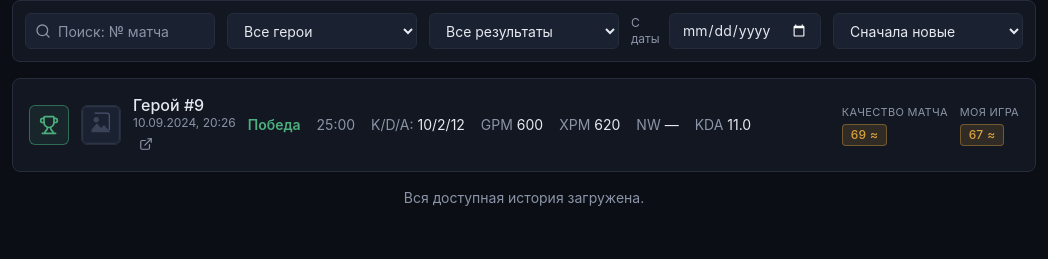
Scenario: Состояния списка матчей › фильтр «только поражения» скрывает победы
The width and height of the screenshot is (1048, 259).
Select "Только поражения" in the 2nd dropdown named "Результат" at [524, 31], box x1=429 y1=13 x2=619 y2=49
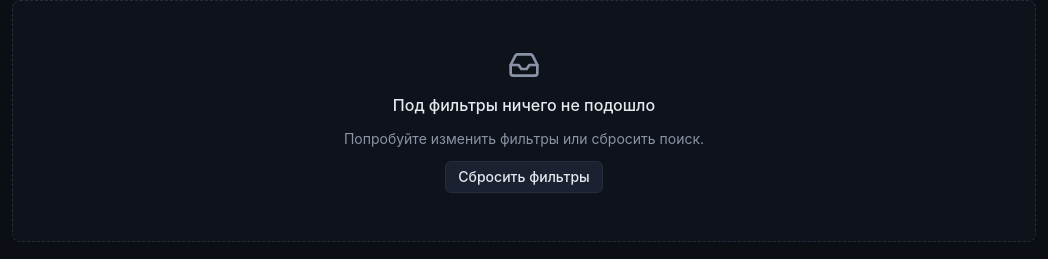
expect the text "Под фильтры ничего не подошло" is shown: met, box x1=393 y1=93 x2=655 y2=117
